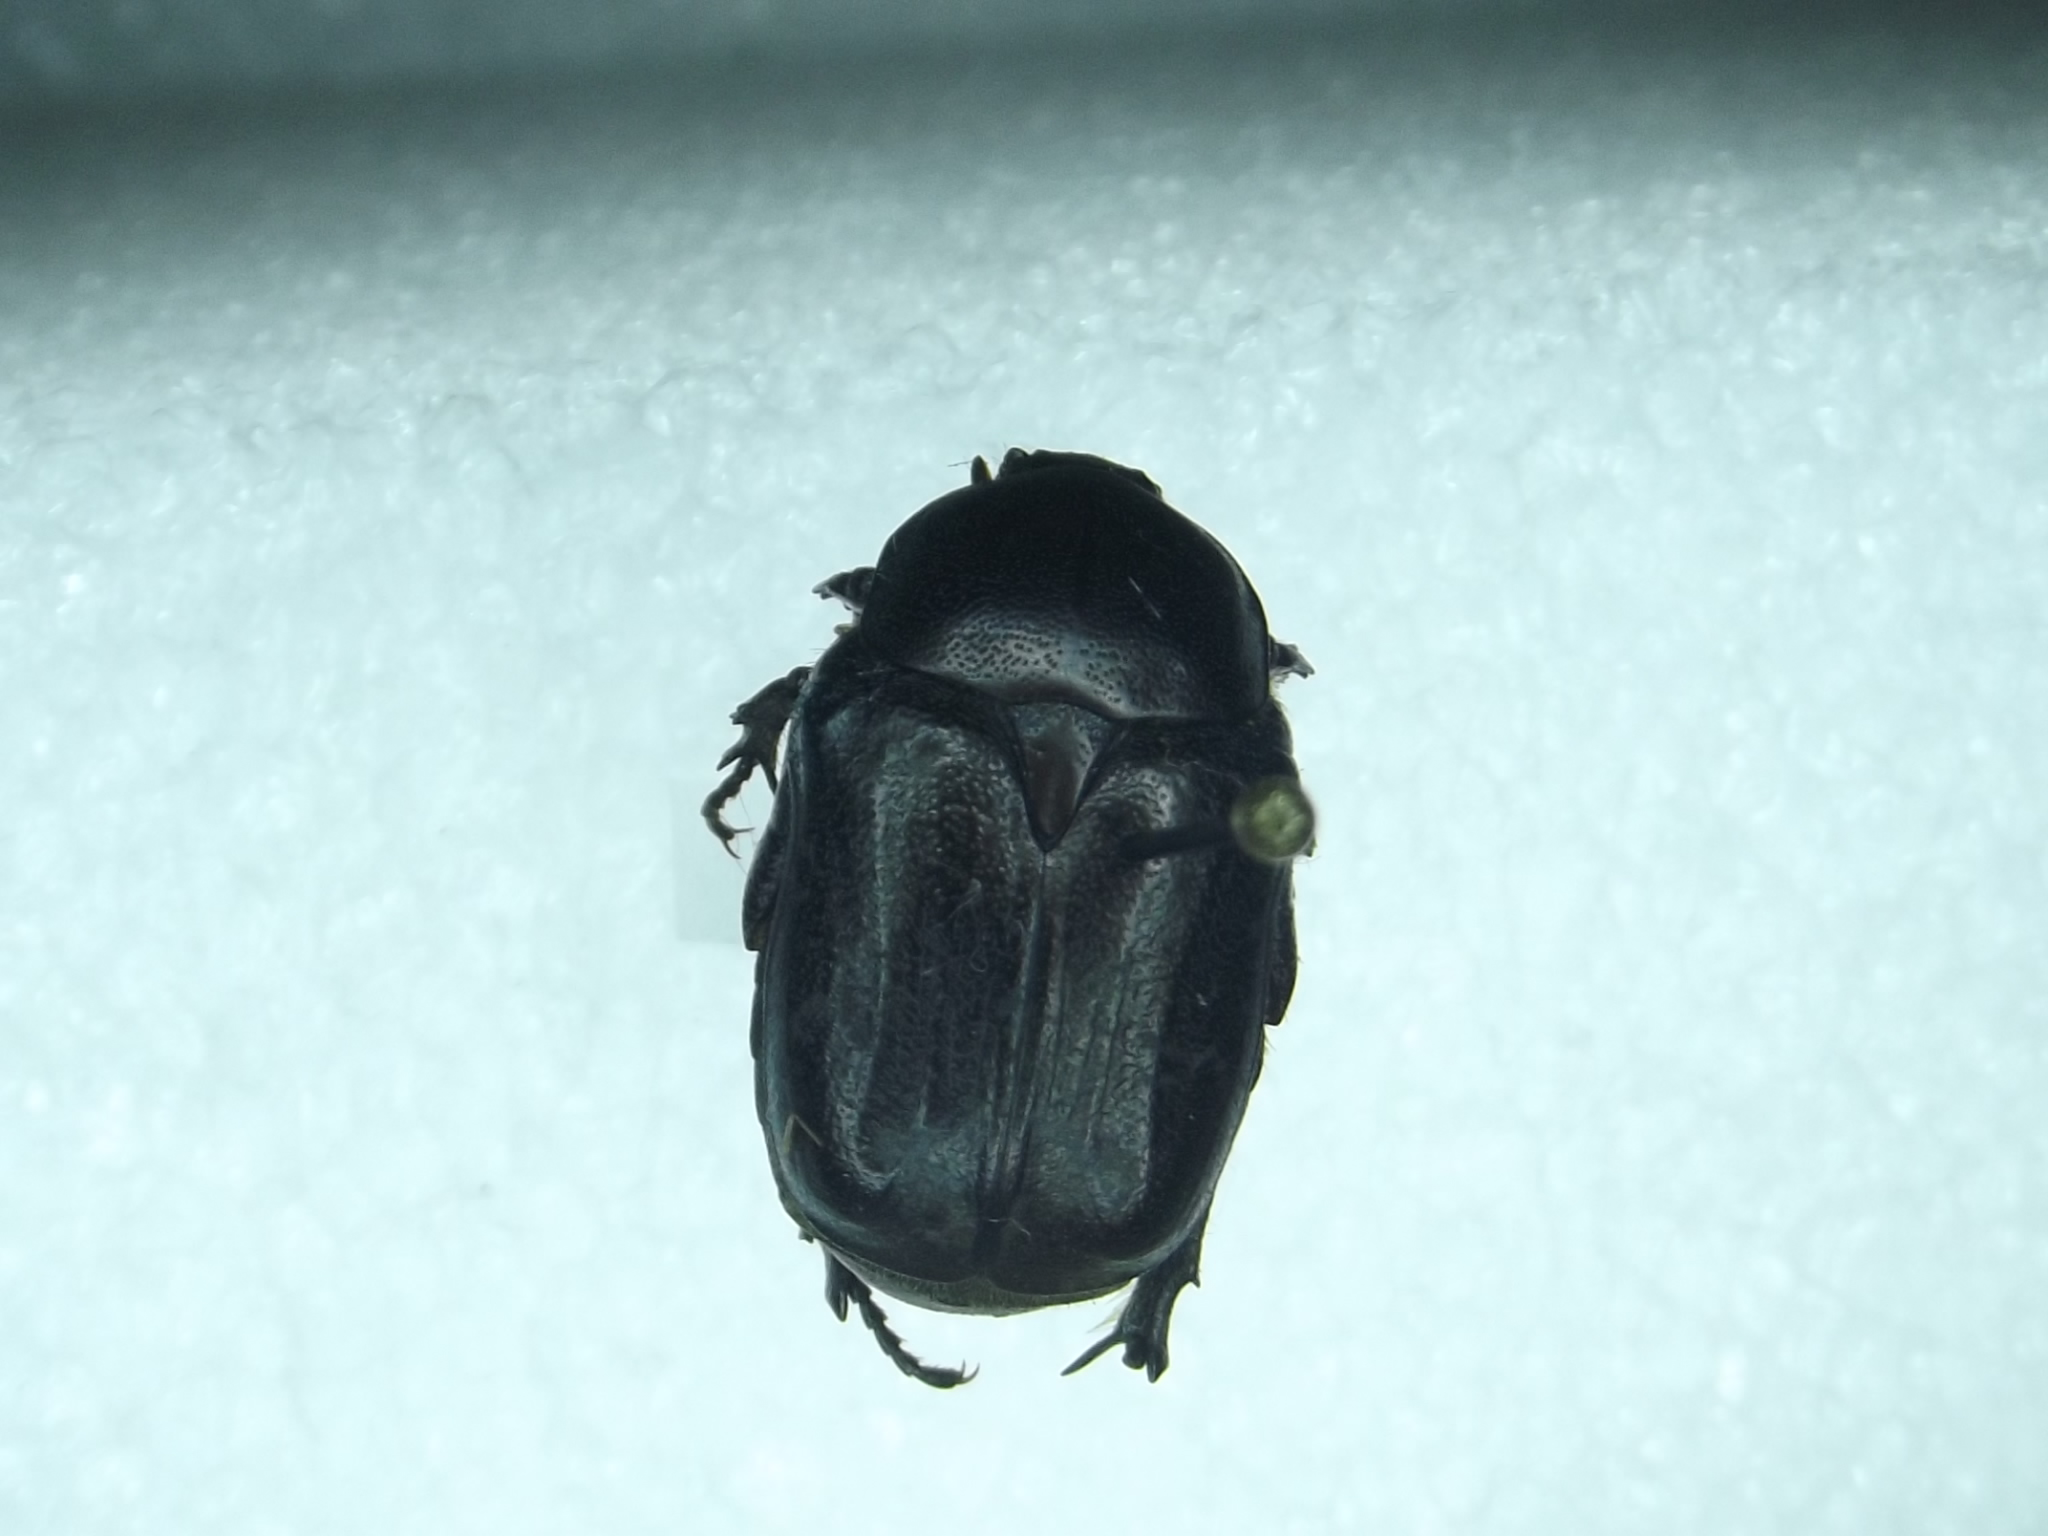Protaetia_vidua: (701, 439, 1351, 1400)
